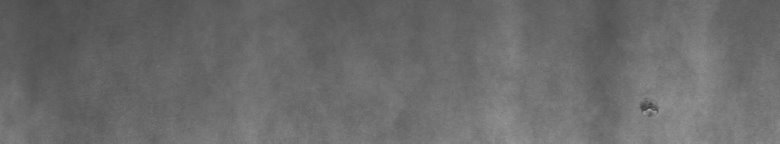fi: (634, 95, 663, 117)
